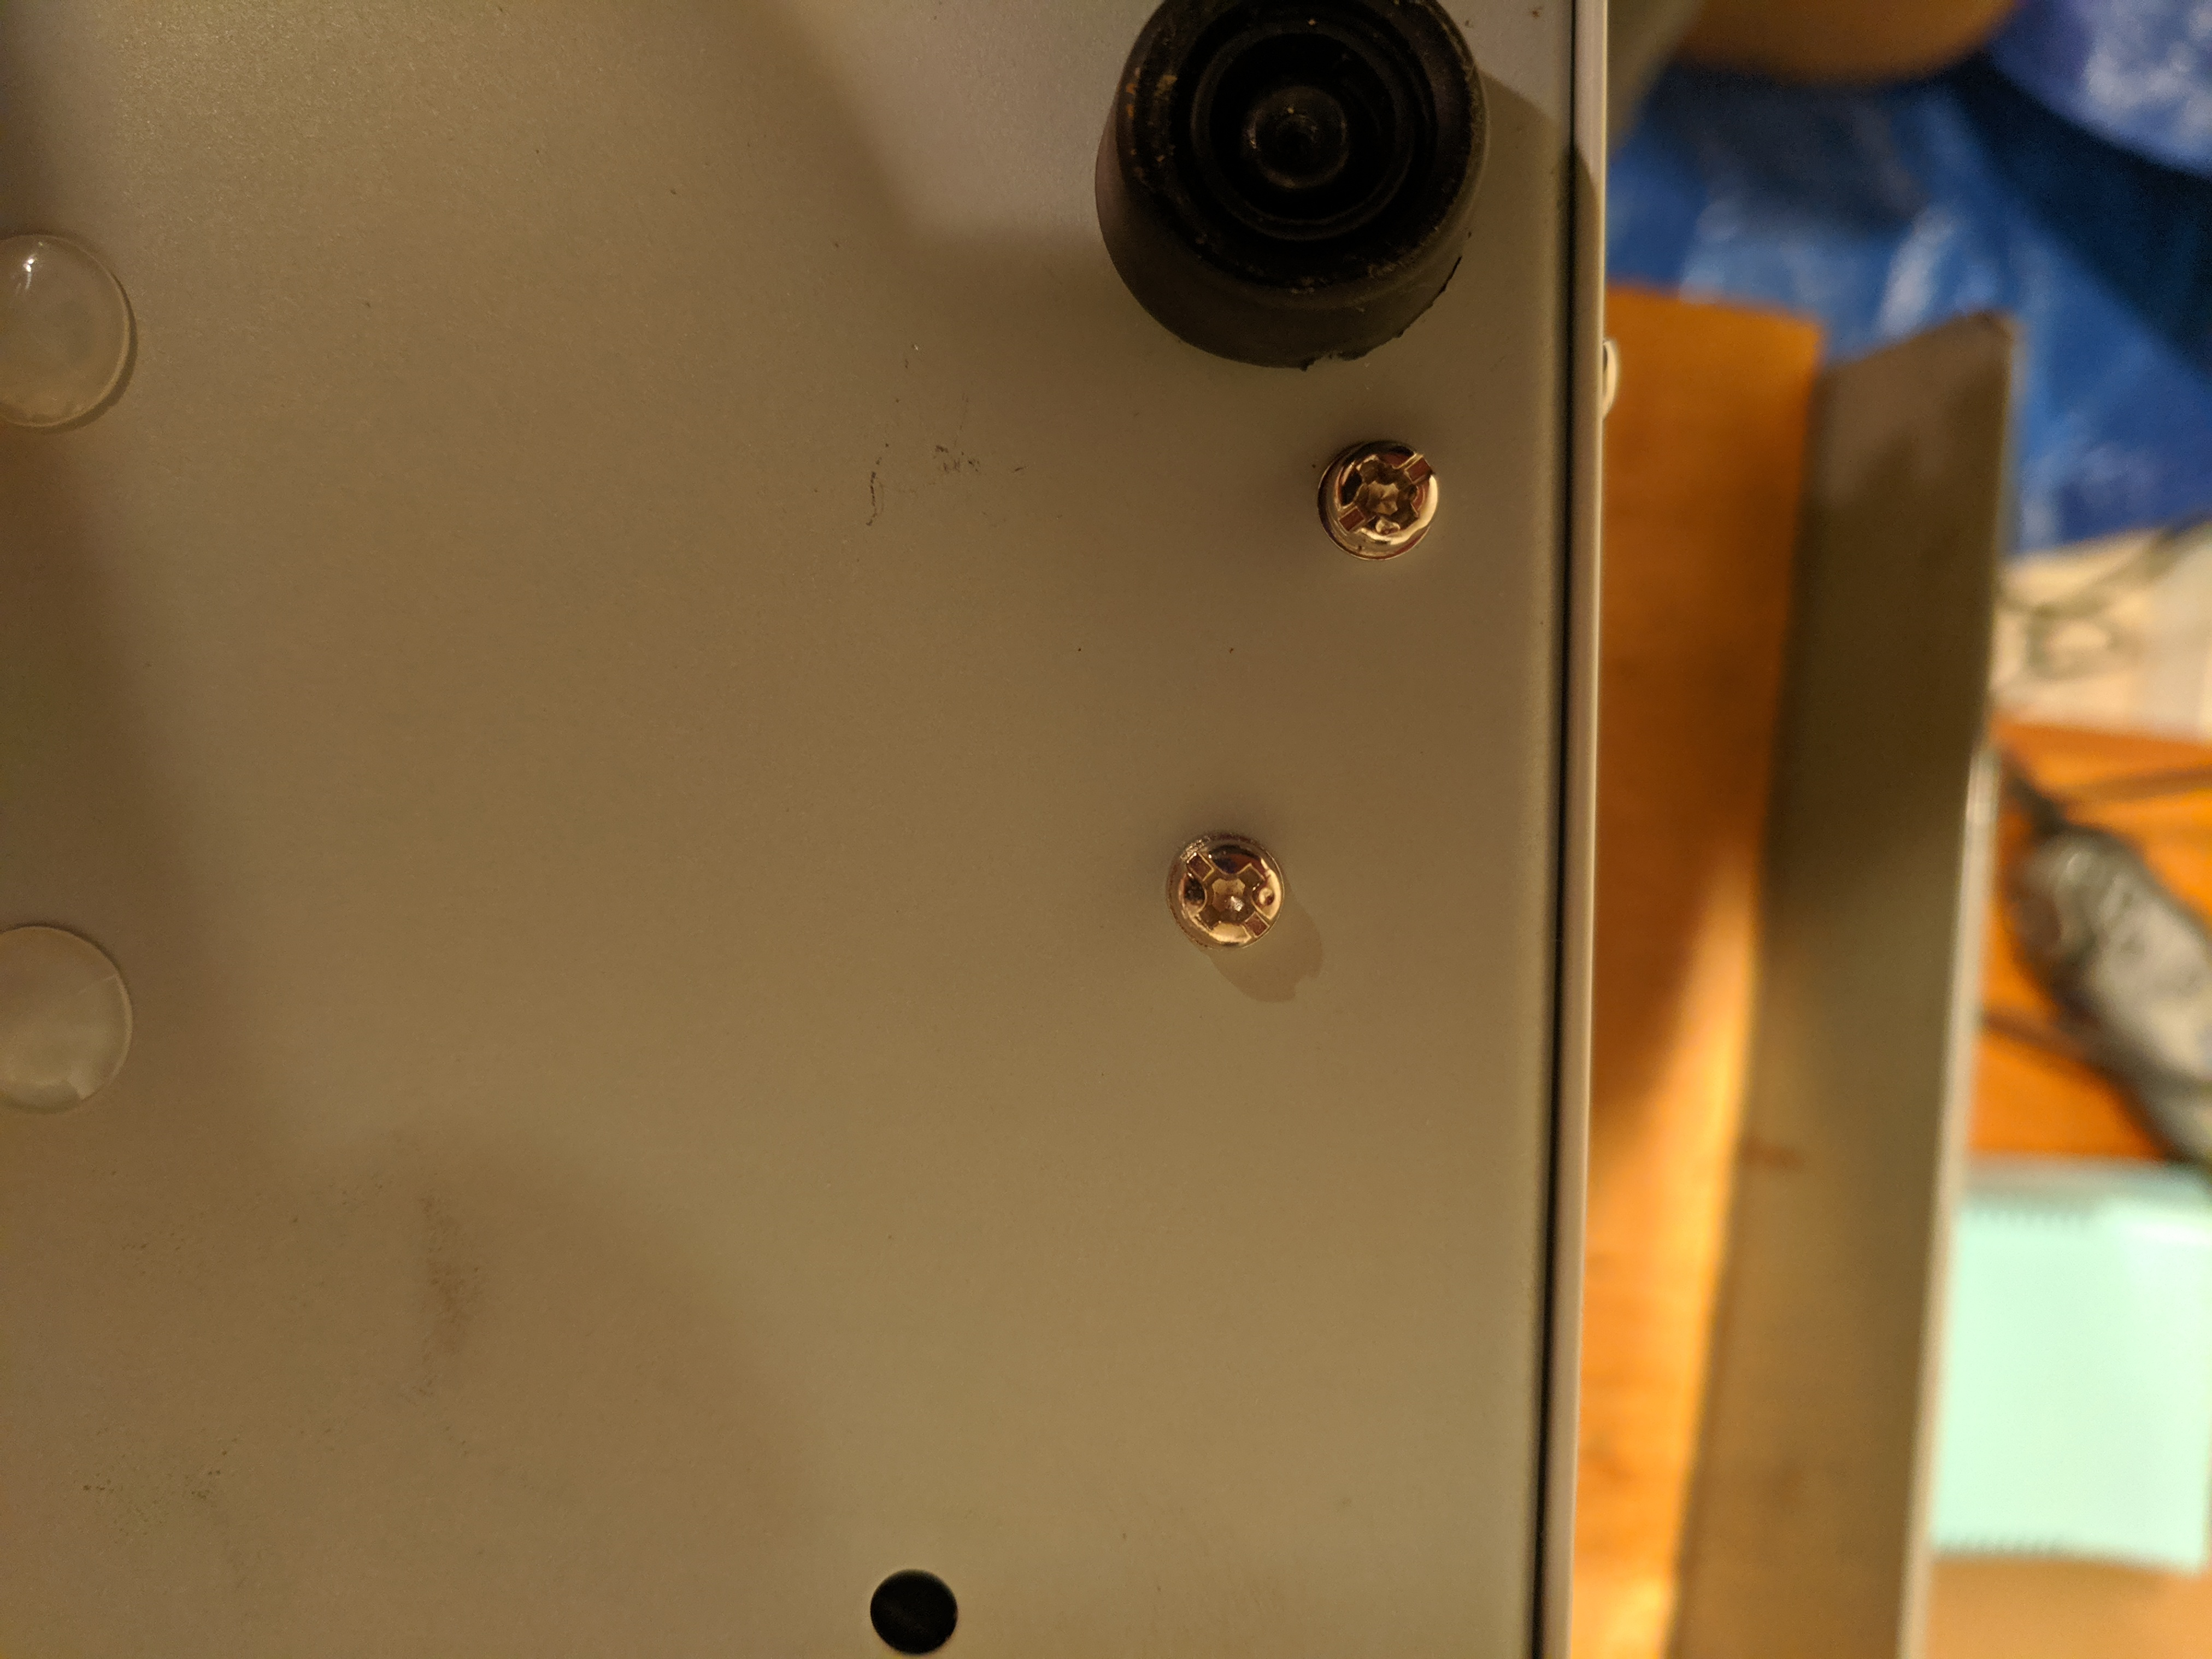cross_recessed_screw: (1322, 436, 1437, 544), (1169, 835, 1278, 932)
